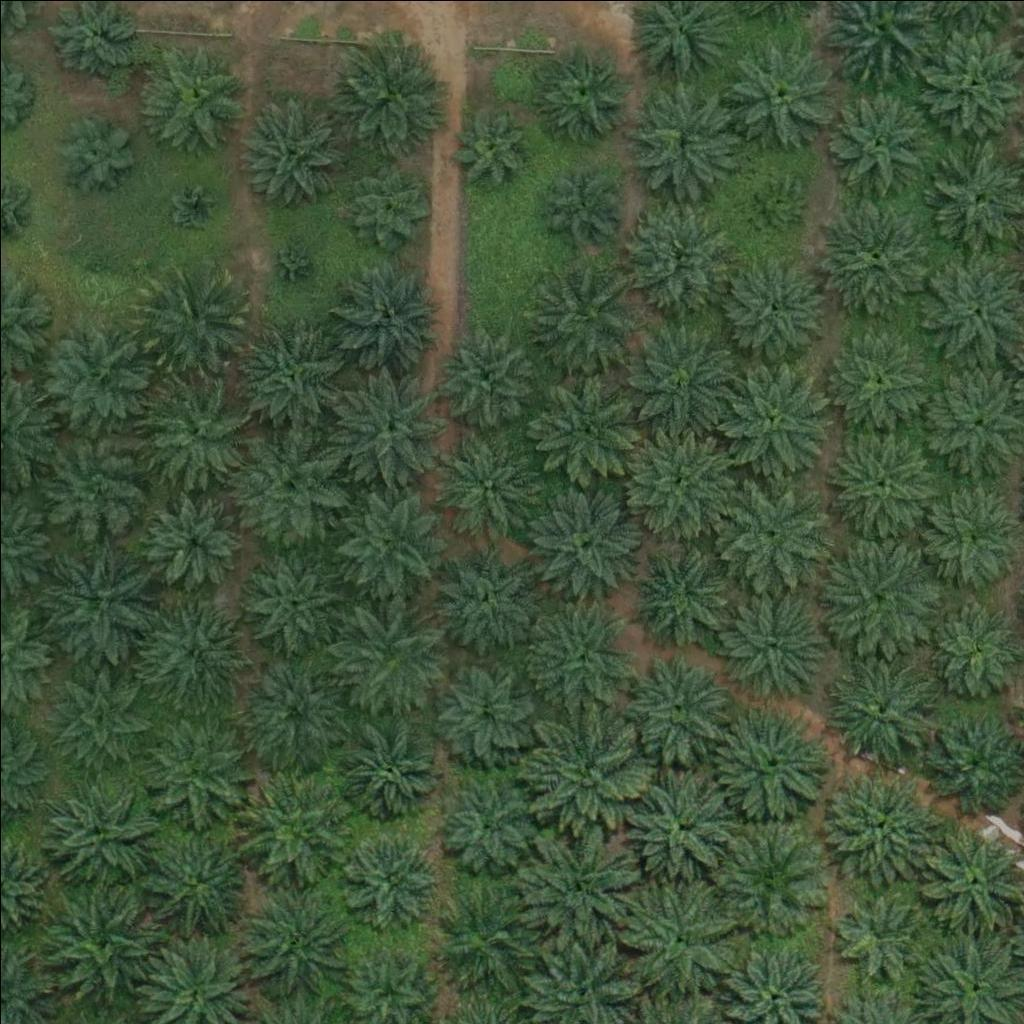Kelapa_Sawit: (235, 887, 348, 1001), (137, 711, 250, 825), (44, 656, 157, 770), (42, 546, 155, 660), (134, 591, 247, 705), (620, 202, 733, 316), (714, 361, 827, 475), (821, 768, 934, 881), (711, 709, 824, 822), (523, 828, 636, 941), (529, 713, 642, 826), (138, 825, 251, 938), (38, 426, 151, 539), (330, 482, 443, 595), (330, 369, 443, 482), (327, 254, 440, 367), (432, 433, 545, 546), (616, 422, 729, 535), (622, 327, 735, 440), (715, 587, 828, 700), (711, 471, 824, 584), (824, 652, 937, 765), (819, 538, 932, 651), (722, 36, 835, 149), (626, 79, 739, 192), (327, 41, 440, 154), (235, 762, 347, 876), (819, 423, 931, 537), (136, 40, 248, 154), (137, 265, 249, 378), (713, 823, 825, 936), (619, 881, 731, 994), (621, 775, 733, 888), (428, 880, 540, 993), (239, 654, 351, 767), (49, 885, 161, 998), (41, 771, 153, 884), (34, 319, 146, 432), (139, 375, 251, 488), (239, 429, 351, 542), (235, 322, 347, 435), (336, 600, 448, 713), (524, 596, 636, 709), (527, 485, 639, 598), (522, 373, 634, 486), (523, 266, 635, 379), (617, 651, 729, 764), (817, 198, 929, 311), (235, 91, 347, 204), (826, 880, 926, 981), (436, 775, 536, 876), (434, 656, 534, 757), (334, 714, 434, 815), (142, 490, 242, 591), (240, 549, 340, 650), (434, 552, 534, 653), (433, 325, 533, 426), (624, 546, 724, 647), (824, 89, 924, 190), (339, 828, 439, 928), (719, 258, 819, 358), (826, 327, 926, 427), (920, 481, 1020, 581), (536, 47, 624, 136), (341, 158, 428, 246), (50, 108, 137, 196), (540, 160, 615, 236), (454, 110, 529, 185), (736, 170, 798, 233), (263, 237, 313, 288), (169, 181, 219, 232), (72, 245, 122, 295)
